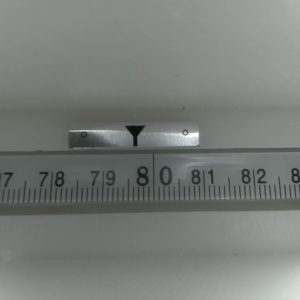0: (158, 166, 172, 186)
1: (207, 168, 213, 184)
2: (256, 169, 266, 184)
7: (1, 172, 13, 188), (37, 171, 48, 187), (88, 171, 99, 186)
8: (135, 167, 148, 186), (240, 168, 251, 184), (54, 171, 64, 187), (190, 169, 200, 185)
9: (105, 170, 115, 186), (290, 168, 300, 184)
finger: (122, 125, 146, 145)
